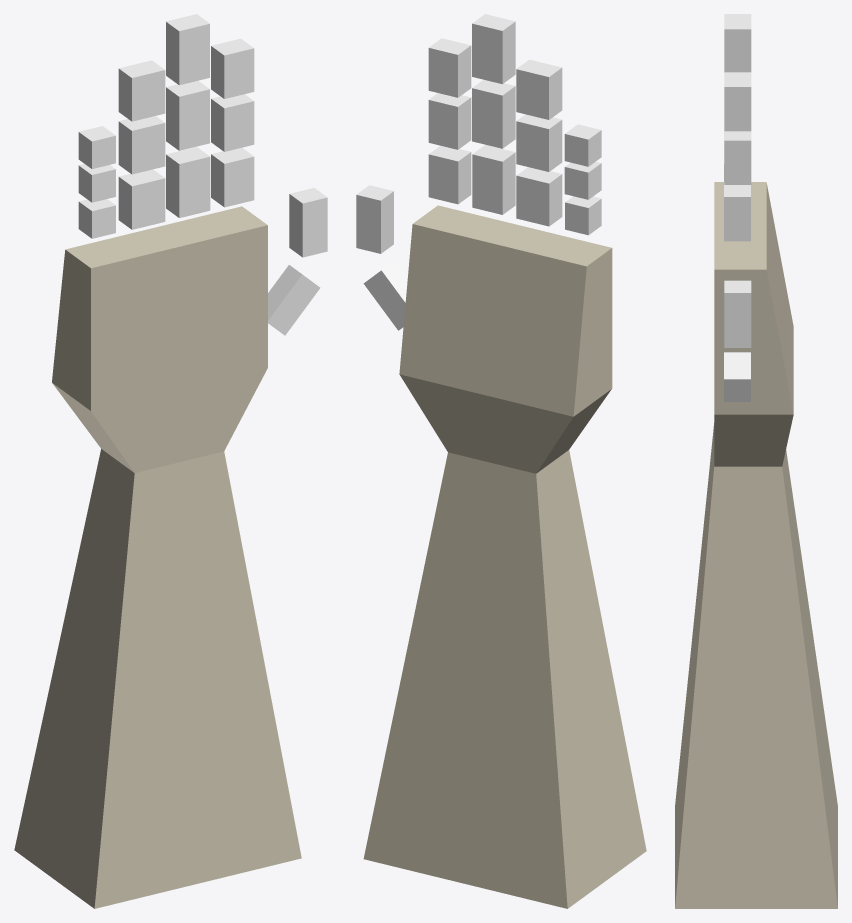
Rendered from LArm.glb.
3 renders of one model, left to right at view 1: azimuth 30°, elevation 25°; view 2: azimuth 150°, elevation 25°; view 3: azimuth 270°, elevation 25°, orthographic. The views are drawn at different scales.
Parts seen in each view (by area): view 1: arm, m1, m3, m2, r3, r1, r2, t2, i3, i1, i2, t1 (+3 smaller); view 2: arm, m3, m1, m2, r3, r1, r2, t2, i3, i1, i2, t1 (+3 smaller); view 3: arm, t2, i3, m3, i1, i2, t1.
Part boxes in pixels (<box>): arm: <box>14,206,301,908</box>; m1: <box>166,147,210,217</box>; m3: <box>166,14,209,85</box>; m2: <box>166,80,209,150</box>; r3: <box>118,60,165,121</box>; r1: <box>118,169,165,229</box>; r2: <box>118,116,165,174</box>; t2: <box>289,187,327,257</box>; i3: <box>211,38,254,98</box>; i1: <box>211,148,254,207</box>; i2: <box>211,94,254,151</box>; t1: <box>268,265,320,335</box>; arm: <box>363,205,646,908</box>; m3: <box>472,14,515,84</box>; m1: <box>472,145,515,214</box>; m2: <box>472,79,515,148</box>; r3: <box>516,59,562,119</box>; r1: <box>516,167,562,226</box>; r2: <box>516,114,562,171</box>; t2: <box>356,185,393,253</box>; i3: <box>428,38,471,97</box>; i1: <box>428,145,471,204</box>; i2: <box>428,93,471,149</box>; t1: <box>363,261,407,330</box>; arm: <box>675,182,837,908</box>; t2: <box>724,280,751,347</box>; i3: <box>724,72,751,131</box>; m3: <box>724,14,751,72</box>; i1: <box>724,182,750,241</box>; i2: <box>724,131,751,184</box>; t1: <box>724,352,750,401</box>.
Bounding box in the file's own units: 1.32 × 4.07 × 0.7103.
